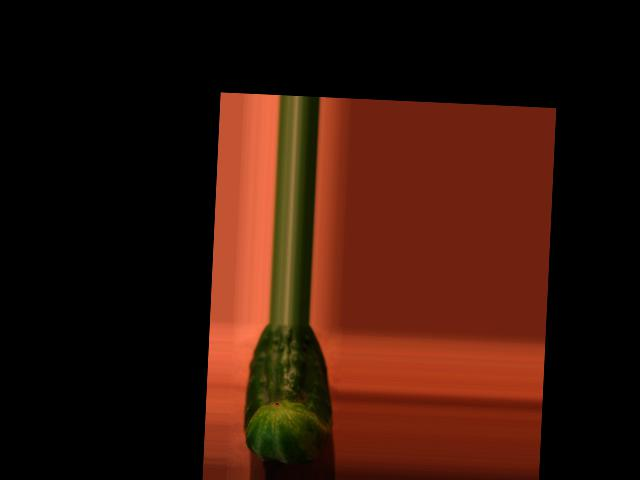cucumber: (241, 321, 336, 465)
